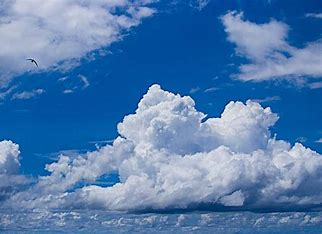Cumulus: (76, 129, 322, 217), (107, 76, 292, 156)
